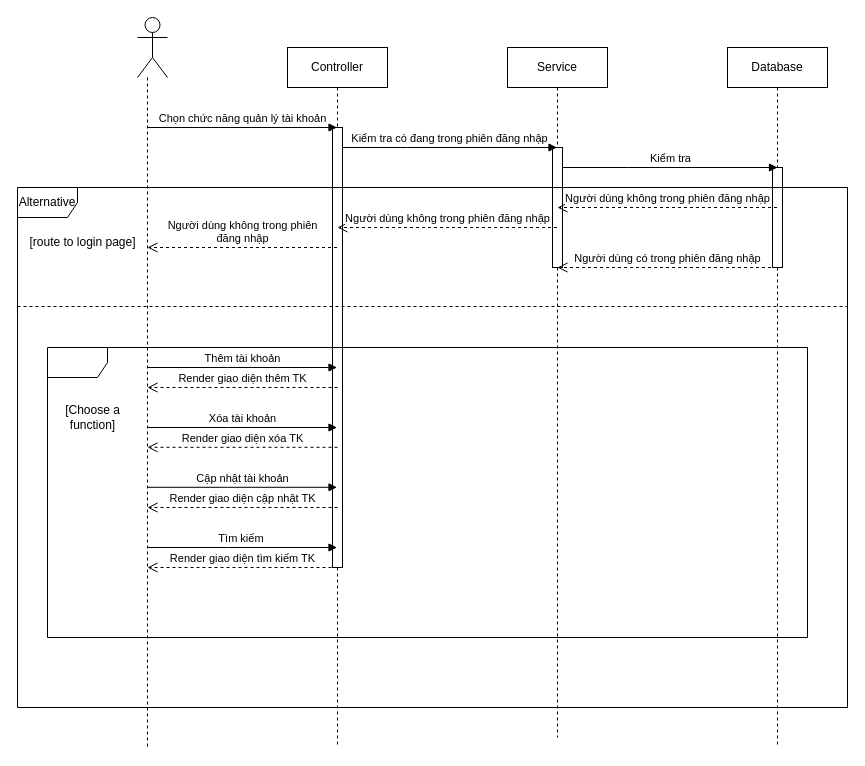
Image size: 865x766. Some labels were removed from this diagram. Each missing label, with the box of its shape:
Actor: (136, 16, 168, 78)
frame: (46, 346, 808, 638)
